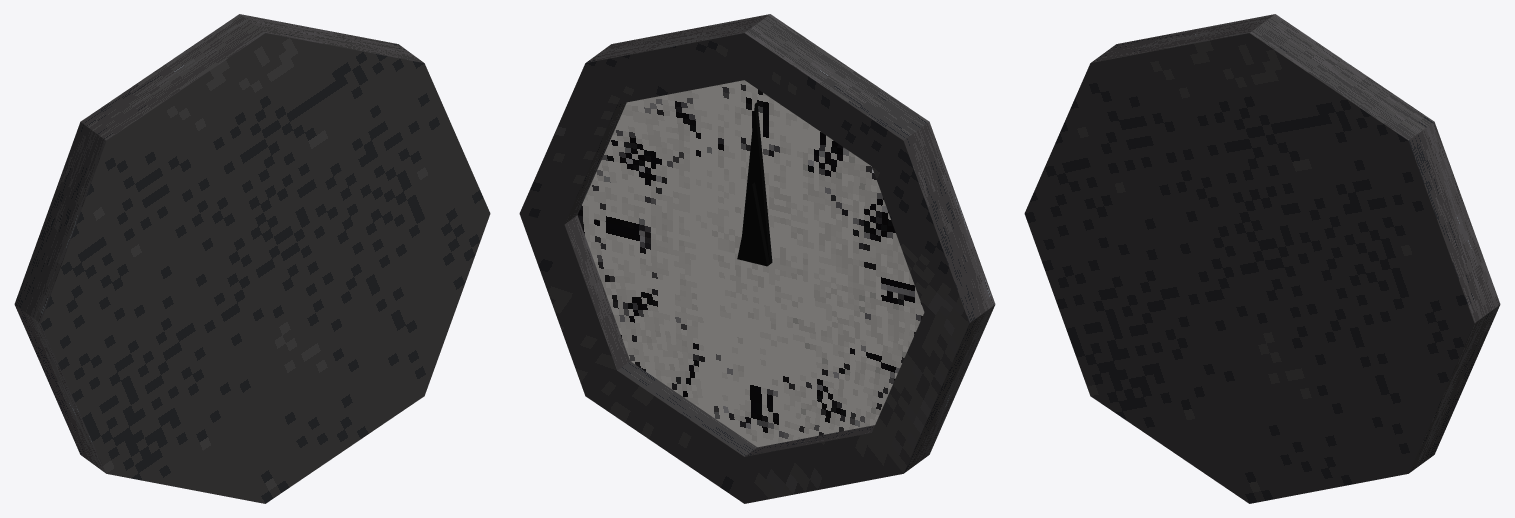
File: Clock.glb
3 renders of one model, left to right at view 1: azimuth 30°, elevation 25°; view 2: azimuth 150°, elevation 25°; view 3: azimuth 330°, elevation 25°, orthographic.
Parts seen in each view (by area): view 1: Clock; view 2: Clock, Yelkovan, Akrep; view 3: Clock.
Boxes of the visible parts, bbox=[...] form: Clock: bbox=[14, 14, 490, 503]; Clock: bbox=[519, 14, 995, 503]; Yelkovan: bbox=[742, 102, 772, 263]; Akrep: bbox=[737, 182, 769, 266]; Clock: bbox=[1024, 14, 1500, 503].
Bounding box in the file's own units: 0.3 × 0.3 × 0.03.
Materials: 2 (1 with a texture image).
